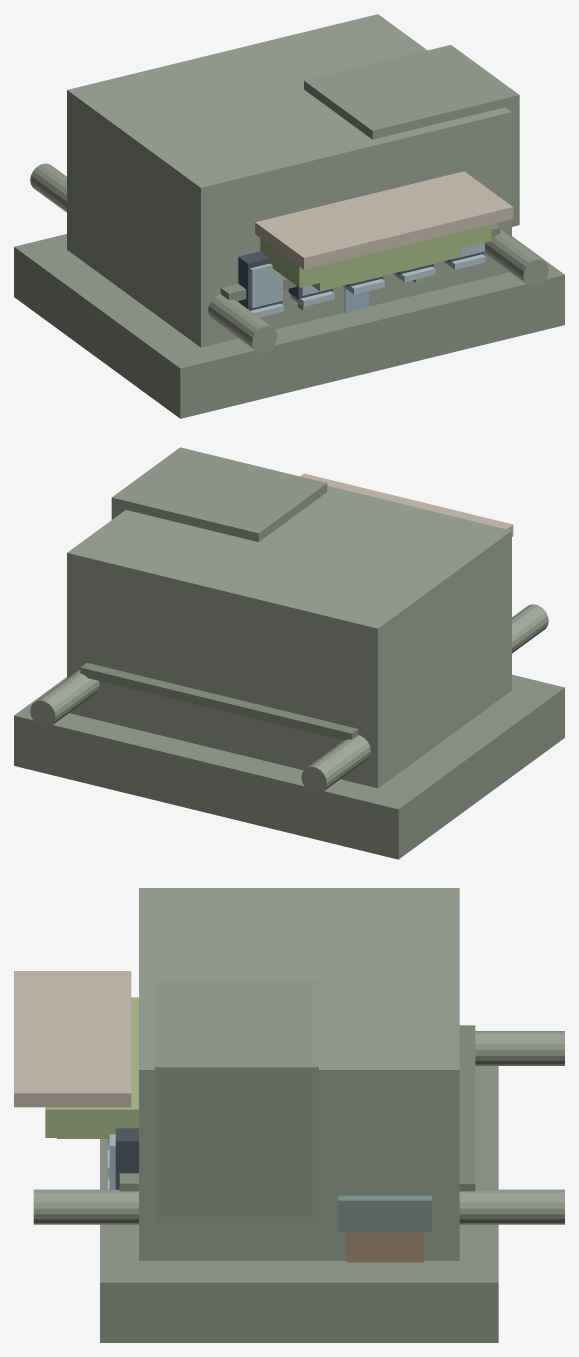
File: homegoods_center.glb
The picture shows the model from 3 angles, top to bottom: view 1: azimuth 30°, elevation 25°; view 2: azimuth 150°, elevation 25°; view 3: azimuth 270°, elevation 25°; orthographic projection. The views are drawn at different scales.
Parts seen in each view (by area): view 1: world; view 2: world; view 3: world.
Boxes of the visible parts, <box> form: world: <box>14,14,564,418</box>; world: <box>14,447,564,859</box>; world: <box>14,888,564,1342</box>.
Size of the model in its own units: 1.36 by 0.7932 by 1.41.
